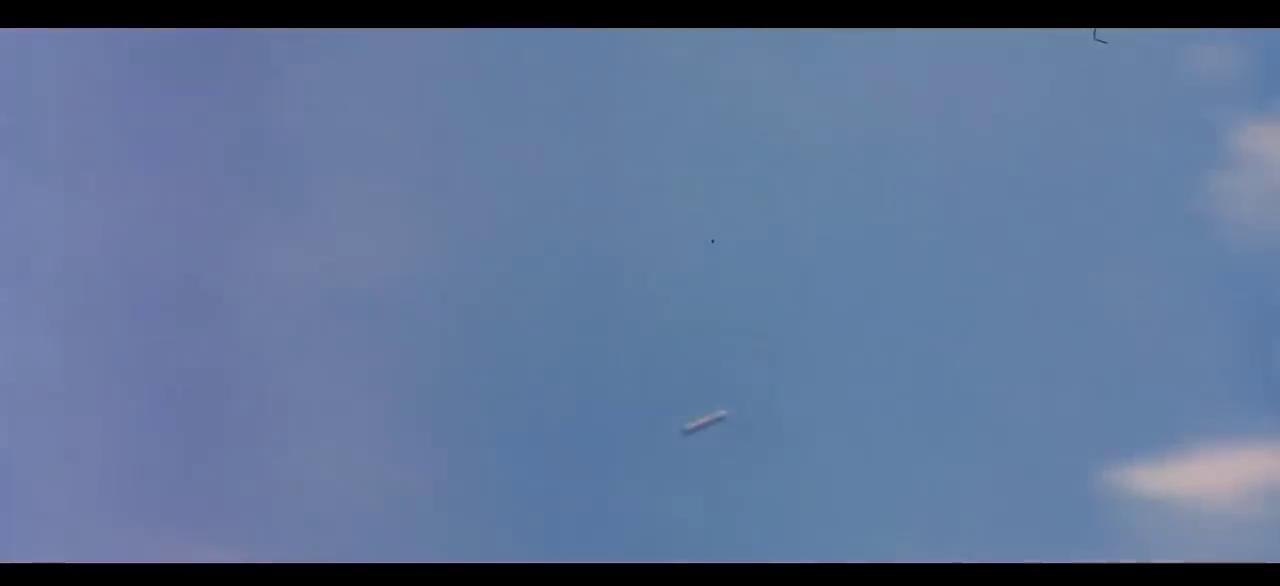snitch: (680, 408, 707, 437)
